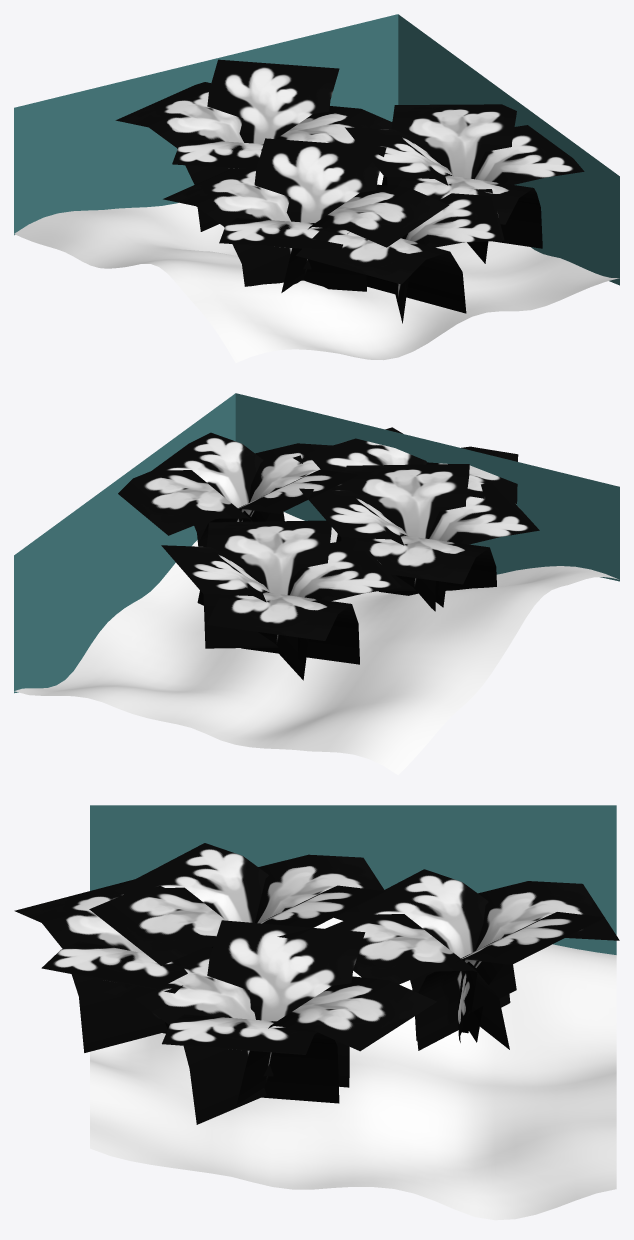
The model's file is bladderwack.glb.
3 renders of one model, top to bottom at view 1: azimuth 30°, elevation 25°; view 2: azimuth 150°, elevation 25°; view 3: azimuth 270°, elevation 25°, orthographic. The views are drawn at different scales.
Parts seen in each view (by area): view 1: Plane.026, Plane.055, Plane.030, Plane.010, Plane.054, Plane.052, Plane.045, Plane.047, Plane.041, Plane.050, Plane.044, Plane.053 (+4 smaller); view 2: Plane.055, Plane.026, Plane.043, Plane.041, Plane.047, Plane.045, Plane.052, Plane.040, Plane.049, Plane.044, Plane.030, Plane.010 (+4 smaller); view 3: Plane.055, Plane.026, Plane.048, Plane.050, Plane.049, Plane.054, Plane.052, Plane.043, Plane.040, Plane.047, Plane.041, Plane.044 (+5 smaller).
Part boxes in pixels (x1,y1,x2,y2): Plane.026: [14, 14, 619, 285]; Plane.055: [14, 171, 619, 362]; Plane.030: [207, 59, 339, 143]; Plane.010: [254, 138, 386, 222]; Plane.054: [296, 228, 466, 313]; Plane.052: [387, 104, 516, 186]; Plane.045: [163, 168, 303, 286]; Plane.047: [281, 184, 448, 292]; Plane.041: [115, 82, 243, 231]; Plane.050: [398, 175, 542, 248]; Plane.044: [219, 218, 366, 291]; Plane.053: [395, 189, 504, 323]; Plane.055: [14, 512, 618, 774]; Plane.026: [14, 393, 619, 693]; Plane.043: [203, 520, 331, 648]; Plane.041: [206, 591, 359, 664]; Plane.047: [341, 464, 469, 591]; Plane.045: [353, 535, 496, 595]; Plane.052: [118, 470, 252, 535]; Plane.040: [279, 538, 401, 680]; Plane.049: [152, 432, 263, 545]; Plane.044: [428, 482, 539, 607]; Plane.030: [161, 545, 297, 669]; Plane.010: [299, 488, 435, 611]; Plane.055: [90, 917, 616, 1220]; Plane.026: [90, 805, 616, 954]; Plane.048: [207, 920, 365, 1087]; Plane.050: [98, 947, 266, 1124]; Plane.049: [162, 1014, 339, 1103]; Plane.054: [14, 879, 167, 1052]; Plane.052: [236, 976, 436, 1104]; Plane.043: [325, 914, 509, 1049]; Plane.040: [334, 869, 510, 1050]; Plane.047: [89, 887, 225, 965]; Plane.041: [469, 881, 619, 1042]; Plane.044: [113, 843, 268, 947].
Size of the model in its own units: 2.07 by 0.8425 by 2.3.
3 materials, 1 textured.
